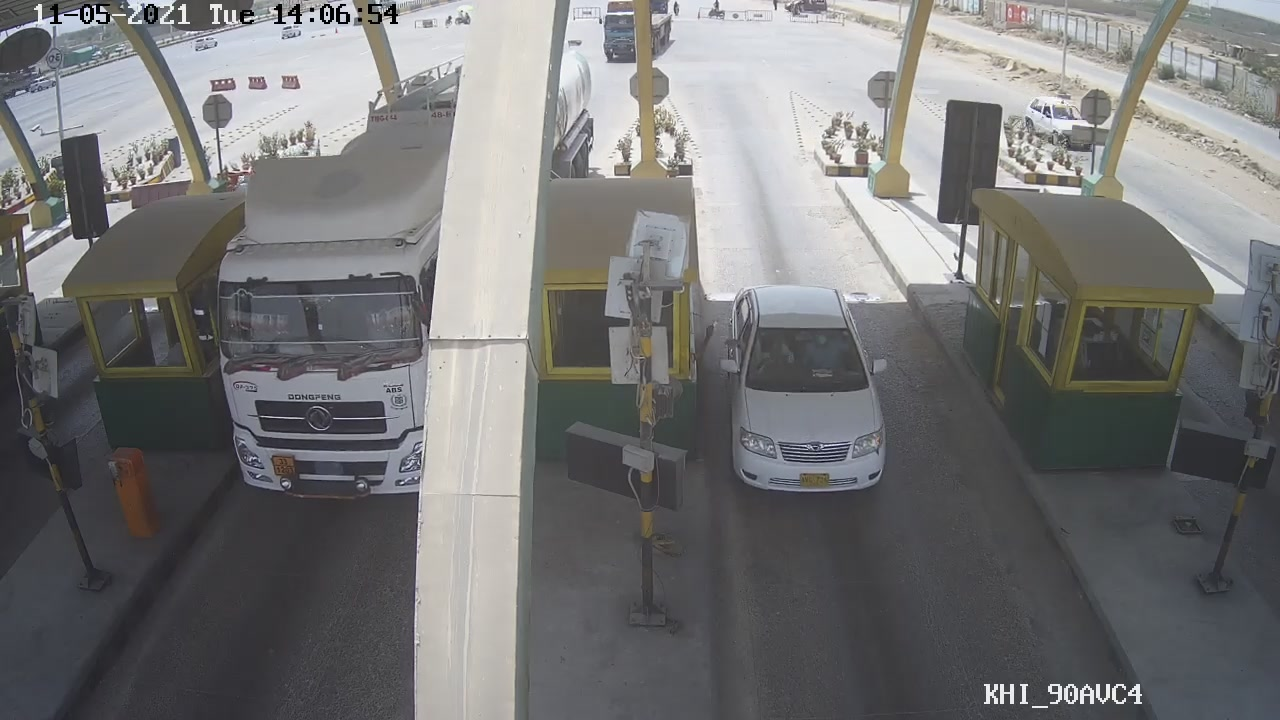F1: (720, 277, 891, 498)
